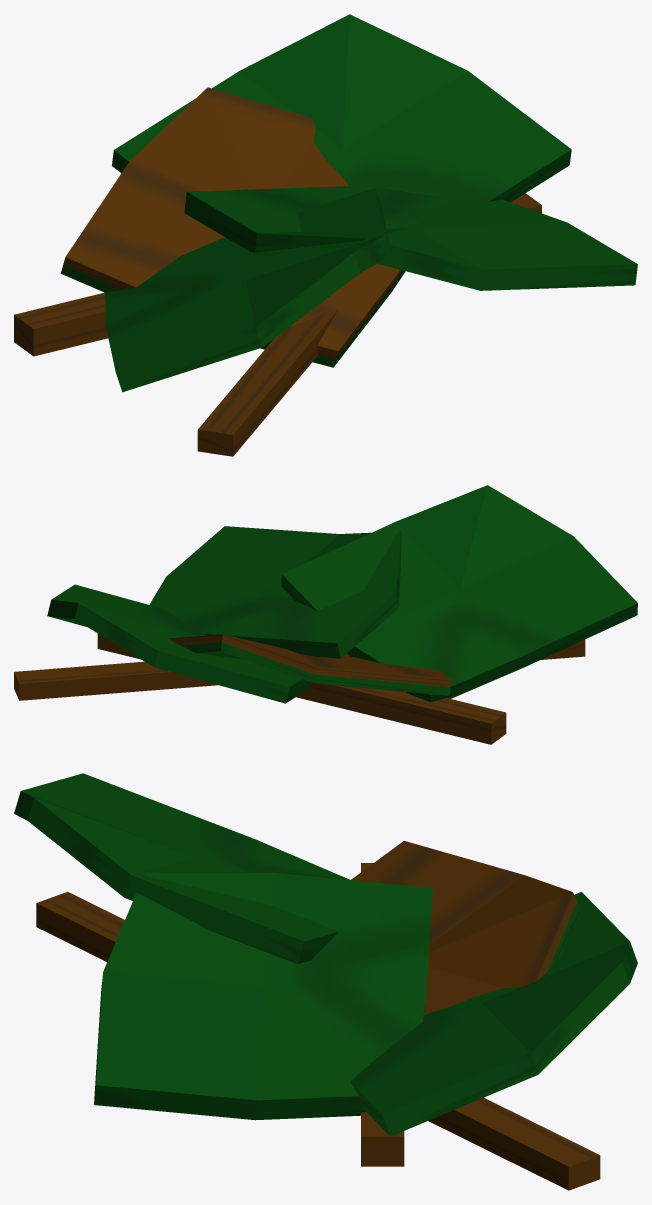
The model's file is ObjectCutBush.dae.
3 renders of one model, top to bottom at view 1: azimuth 30°, elevation 25°; view 2: azimuth 150°, elevation 25°; view 3: azimuth 270°, elevation 25°, orthographic. The views are drawn at different scales.
Visible parts, largest first — view 1: Cube.005, Cube.002, Cube.004, Cube.003, Cube.001, Cube; view 2: Cube.004, Cube.003, Cube.005, Cube.002, Cube, Cube.001; view 3: Cube.003, Cube.005, Cube.004, Cube.002, Cube.001, Cube.
Boxes of the visible parts, bbox=[...] form: Cube.005: bbox=[112, 14, 571, 202]; Cube.002: bbox=[60, 87, 405, 367]; Cube.004: bbox=[105, 188, 391, 392]; Cube.003: bbox=[184, 186, 637, 290]; Cube.001: bbox=[197, 310, 337, 456]; Cube: bbox=[14, 193, 541, 356]; Cube.004: bbox=[281, 485, 637, 702]; Cube.003: bbox=[149, 526, 401, 658]; Cube.005: bbox=[47, 584, 310, 703]; Cube.002: bbox=[169, 634, 451, 695]; Cube: bbox=[97, 633, 506, 744]; Cube.001: bbox=[14, 639, 585, 700]; Cube.003: bbox=[94, 872, 432, 1120]; Cube.005: bbox=[350, 892, 637, 1136]; Cube.004: bbox=[14, 773, 349, 964]; Cube.002: bbox=[351, 841, 580, 1014]; Cube.001: bbox=[36, 892, 600, 1190]; Cube: bbox=[361, 863, 404, 1166].
Size of the model in its own units: 2.53 by 2.09 by 0.7689.
1 material, 1 textured.
